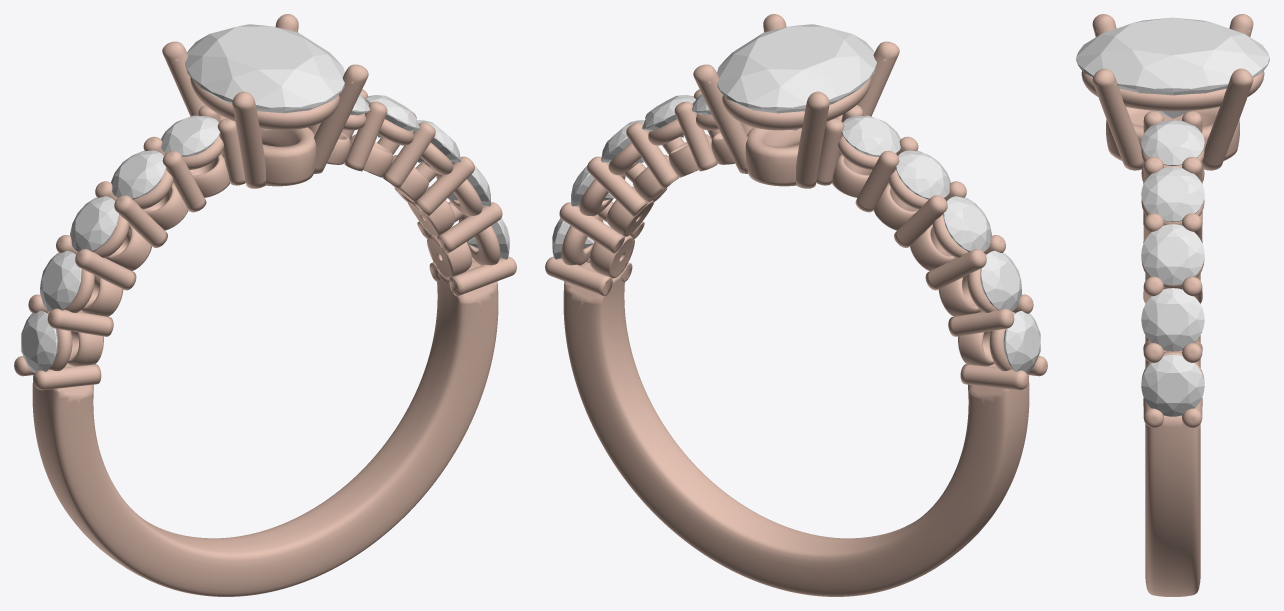
File: diamond-oval-rosegold-4prong-straightband-11stone.glb
3 views of the same model, side by side, from view 1: azimuth 30°, elevation 25°; view 2: azimuth 150°, elevation 25°; view 3: azimuth 270°, elevation 25° (orthographic).
Parts seen in each view (by area): view 1: metal, stone, side.002, side.003, side.001, side.004, side, side.008, side.007; view 2: metal, stone, side.002, side.003, side.001, side.004, side, side.008, side.007; view 3: metal, stone, side.006, side.005, side.007, side.008, side.009.
Part boxes in pixels (x1,y1,x2,y2): metal: [14, 14, 516, 596]; stone: [185, 24, 344, 130]; side.002: [70, 196, 118, 251]; side.003: [111, 150, 166, 199]; side.001: [40, 250, 81, 311]; side.004: [161, 115, 220, 156]; side: [21, 311, 58, 372]; side.008: [365, 95, 419, 137]; side.007: [417, 120, 460, 162]; metal: [545, 14, 1047, 596]; stone: [717, 24, 876, 130]; side.002: [943, 196, 991, 251]; side.003: [895, 150, 950, 199]; side.001: [980, 250, 1021, 311]; side.004: [841, 115, 900, 156]; side: [1003, 311, 1040, 372]; side.008: [642, 95, 696, 137]; side.007: [601, 120, 644, 162]; metal: [1081, 14, 1264, 596]; stone: [1076, 17, 1269, 118]; side.006: [1141, 288, 1204, 351]; side.005: [1141, 354, 1204, 416]; side.007: [1141, 224, 1204, 285]; side.008: [1141, 166, 1204, 222]; side.009: [1141, 120, 1204, 166].
Bounding box in the file's own units: 21.88 × 23.41 × 7.64.
